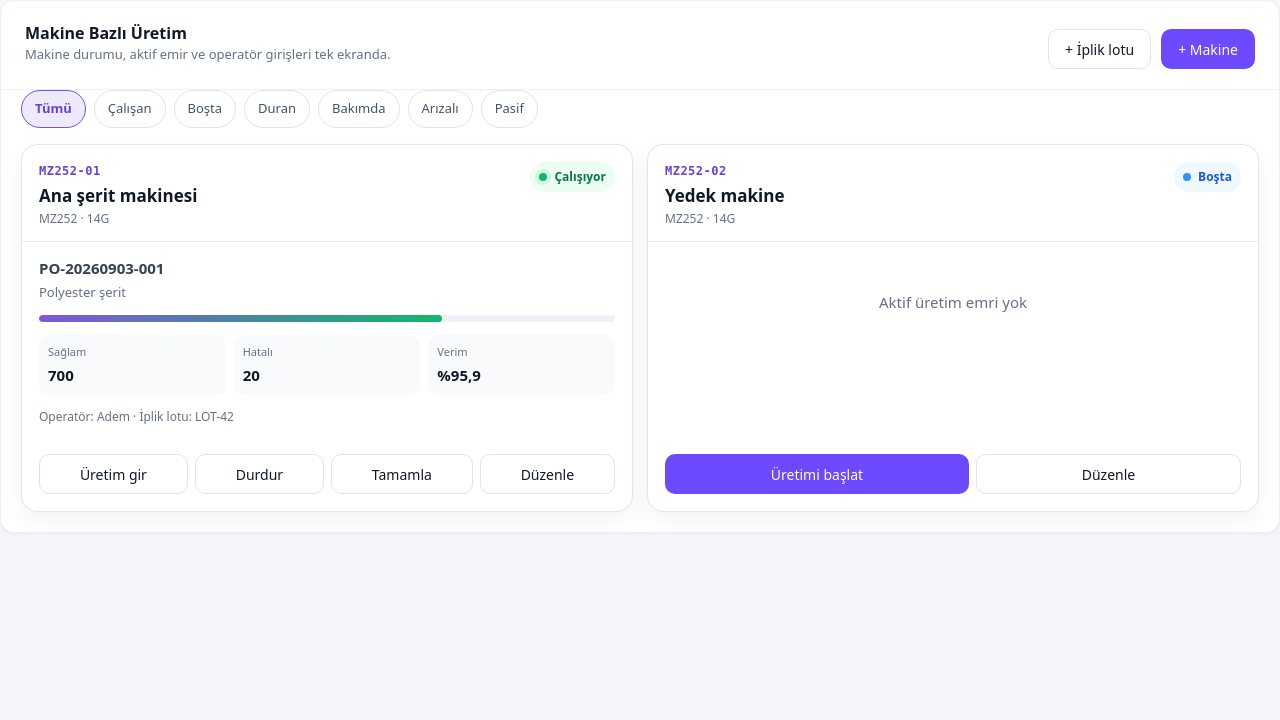
Test case: MachineProductionTab › durum filtresi yalnız seçili makineleri bırakır
The width and height of the screenshot is (1280, 720).
Expected: the text "MZ252-01" is shown, 39,164 -> 101,178
Click the button "Boşta": (205, 109) 174,90 -> 236,128
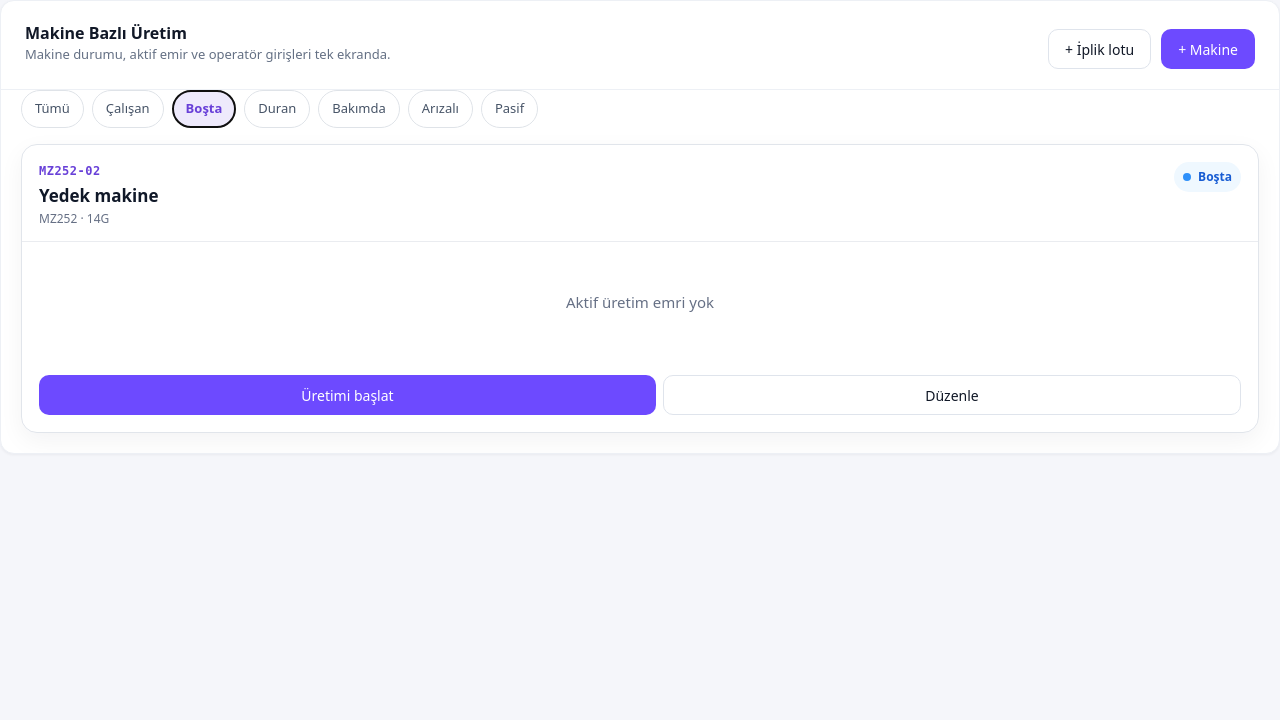
Expected: the text "MZ252-02" is shown, 39,164 -> 101,178
Expected: the text "MZ252-01" is gone
